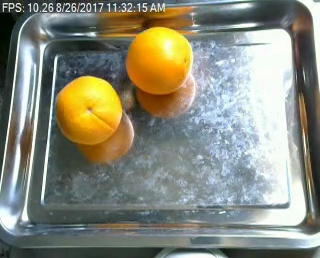Orange: (53, 76, 122, 145), (126, 25, 194, 95)
